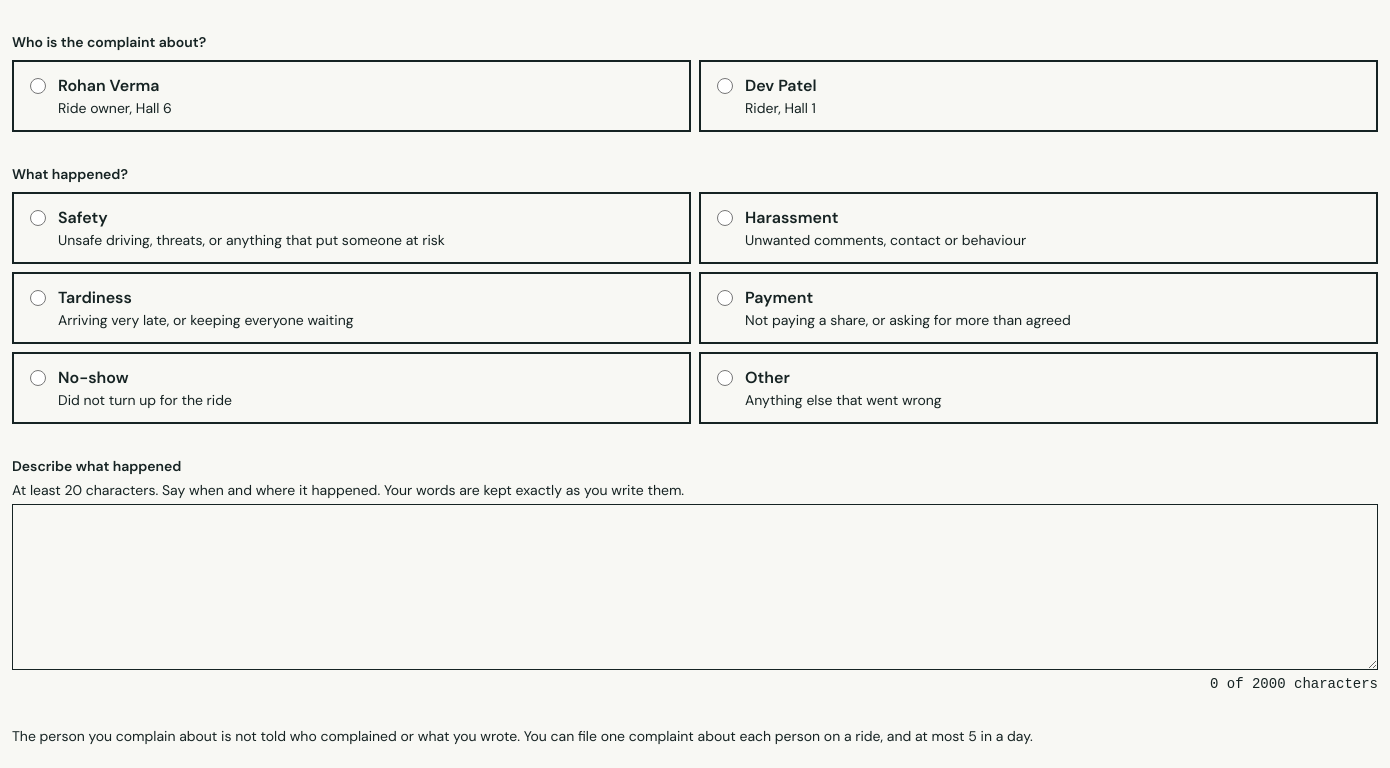
ComplaintForm (FR-RD-13.1 to 13.6, CS455-53) › checks the form before sending
The image size is (1390, 768).
In the text box labelled "Describe what happened": (695, 587) left=12, top=504, right=1378, bottom=670, type "Too short."
(page scrolled)
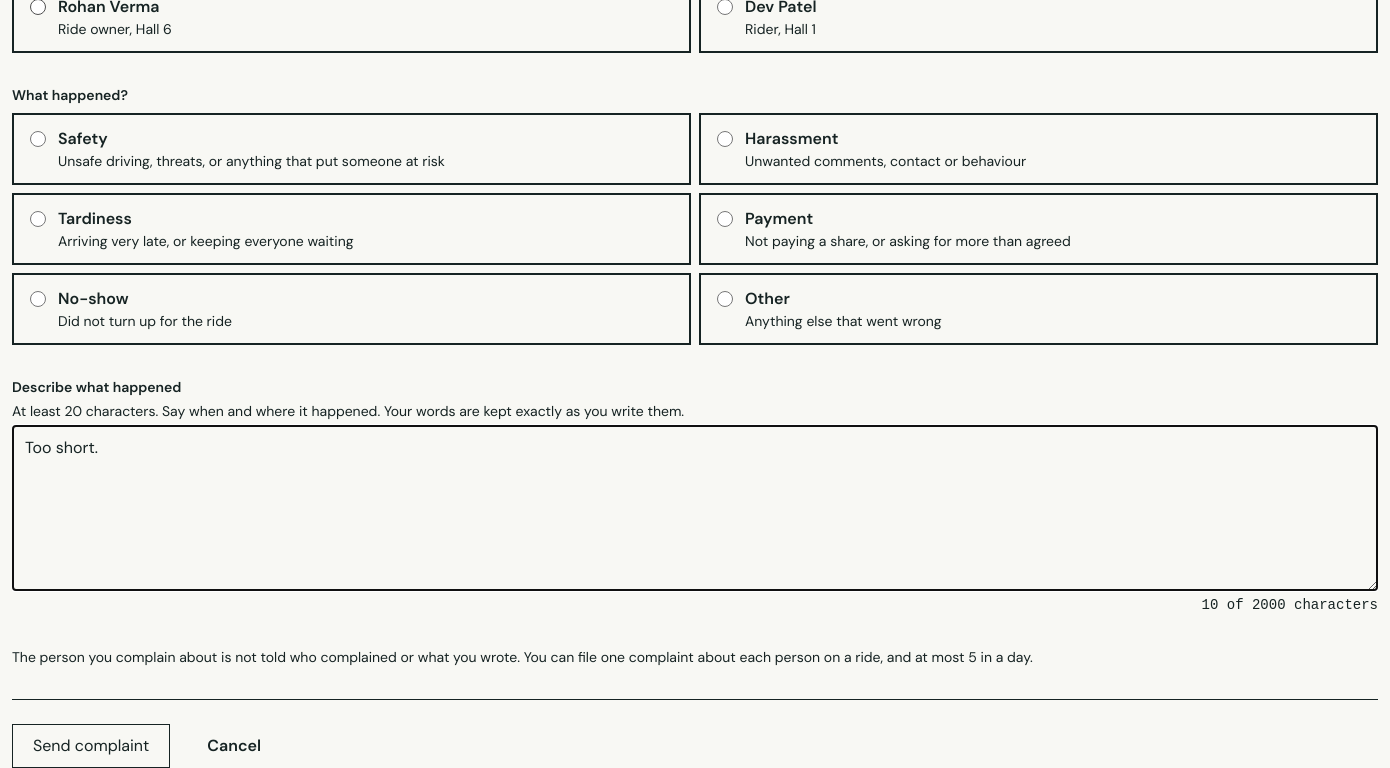
Click the button "Send complaint": (91, 746) left=12, top=724, right=170, bottom=767
(page scrolled)
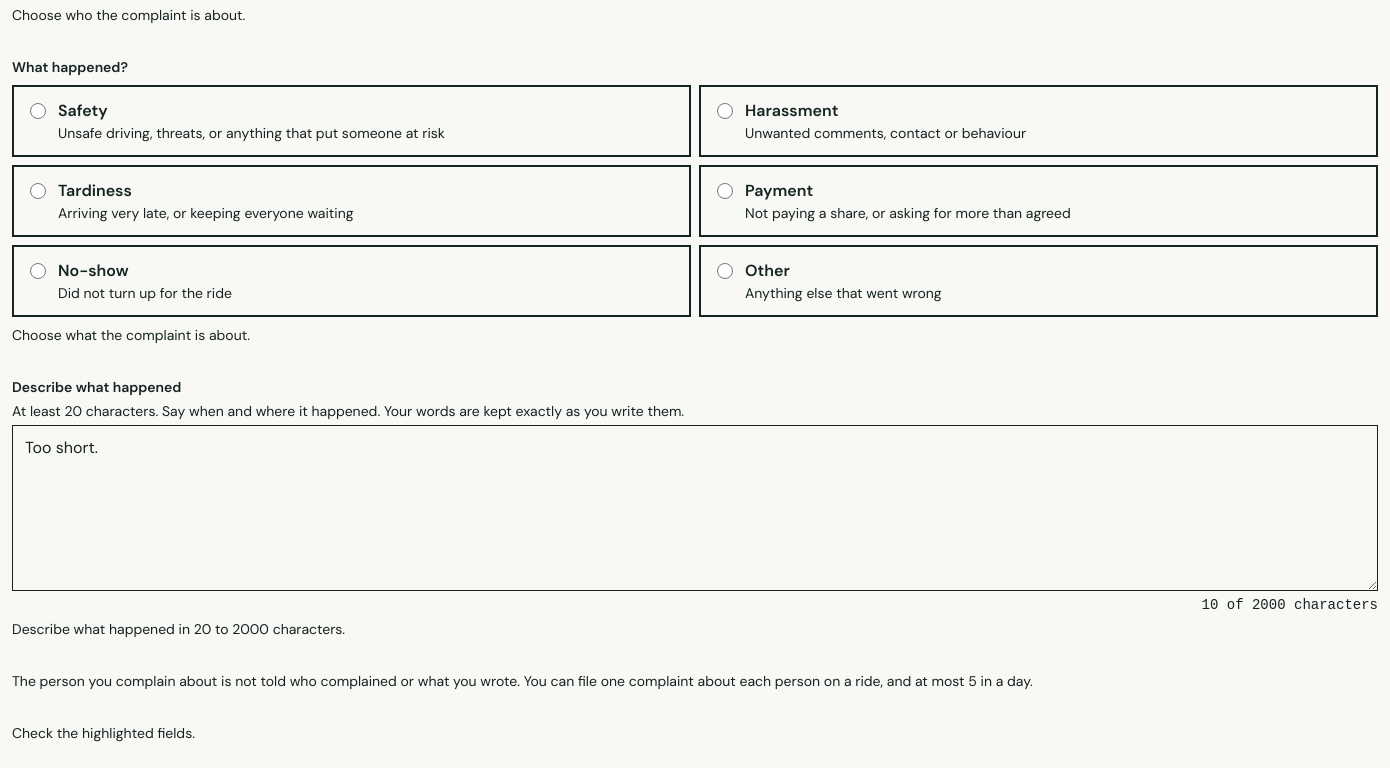
Expected: the text "Choose who the complaint is about." is shown, left=12, top=6, right=245, bottom=24
Expected: the text "Choose what the complaint is about." is shown, left=12, top=326, right=250, bottom=344
Expected: the text "Describe what happened in 20 to 2000 characters." is shown, left=12, top=620, right=345, bottom=638
